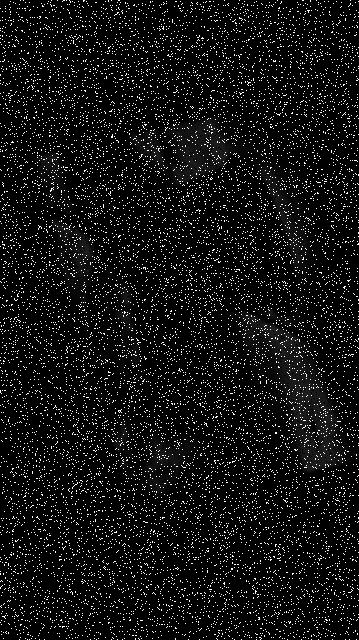pot: (133, 154, 294, 315)
